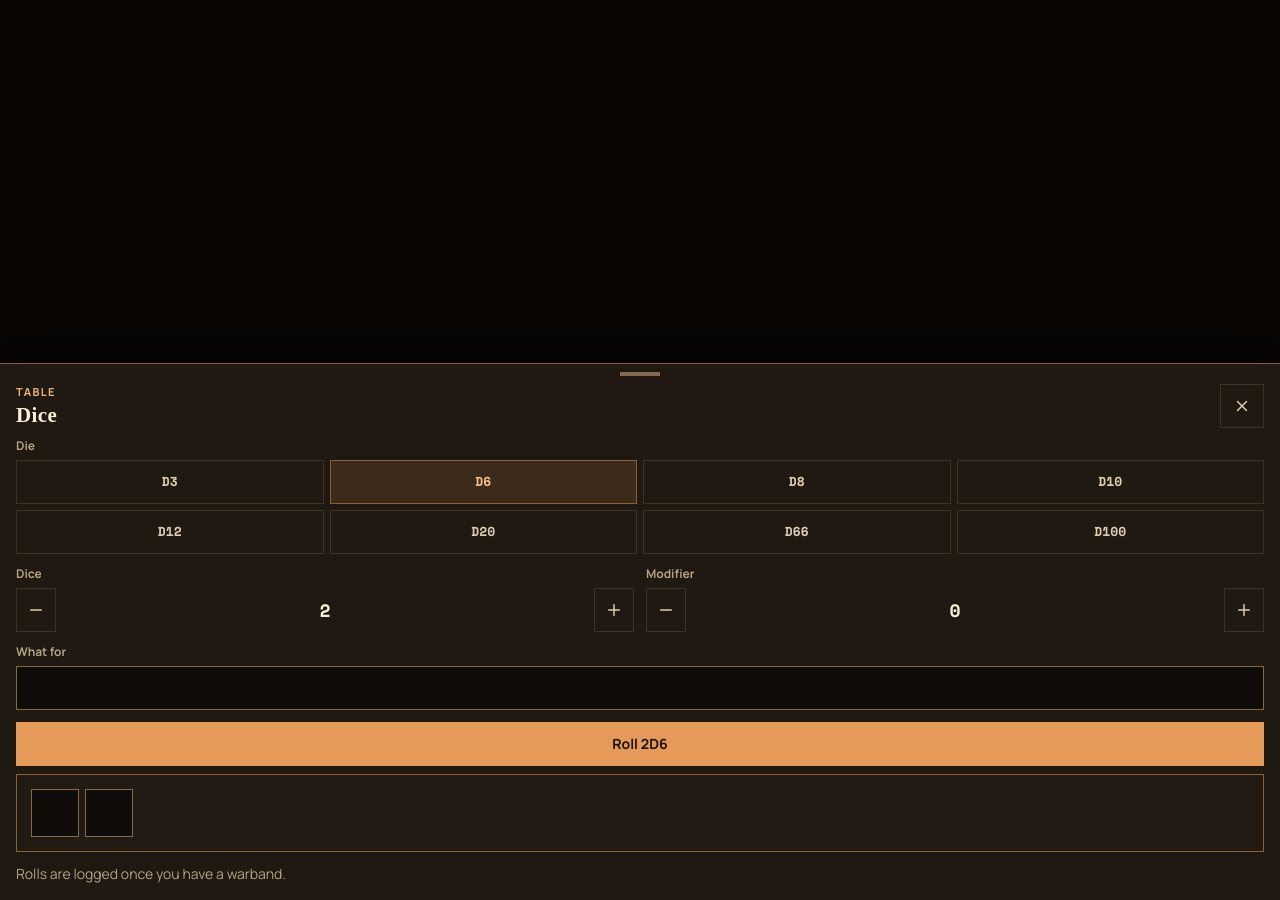
Test: DicePanel › takes the table's roll typed into a box per die, and shows its total
In the field named "First D6 rolled": (55, 813) top-left (31, 789), bottom-right (79, 837), type "4"
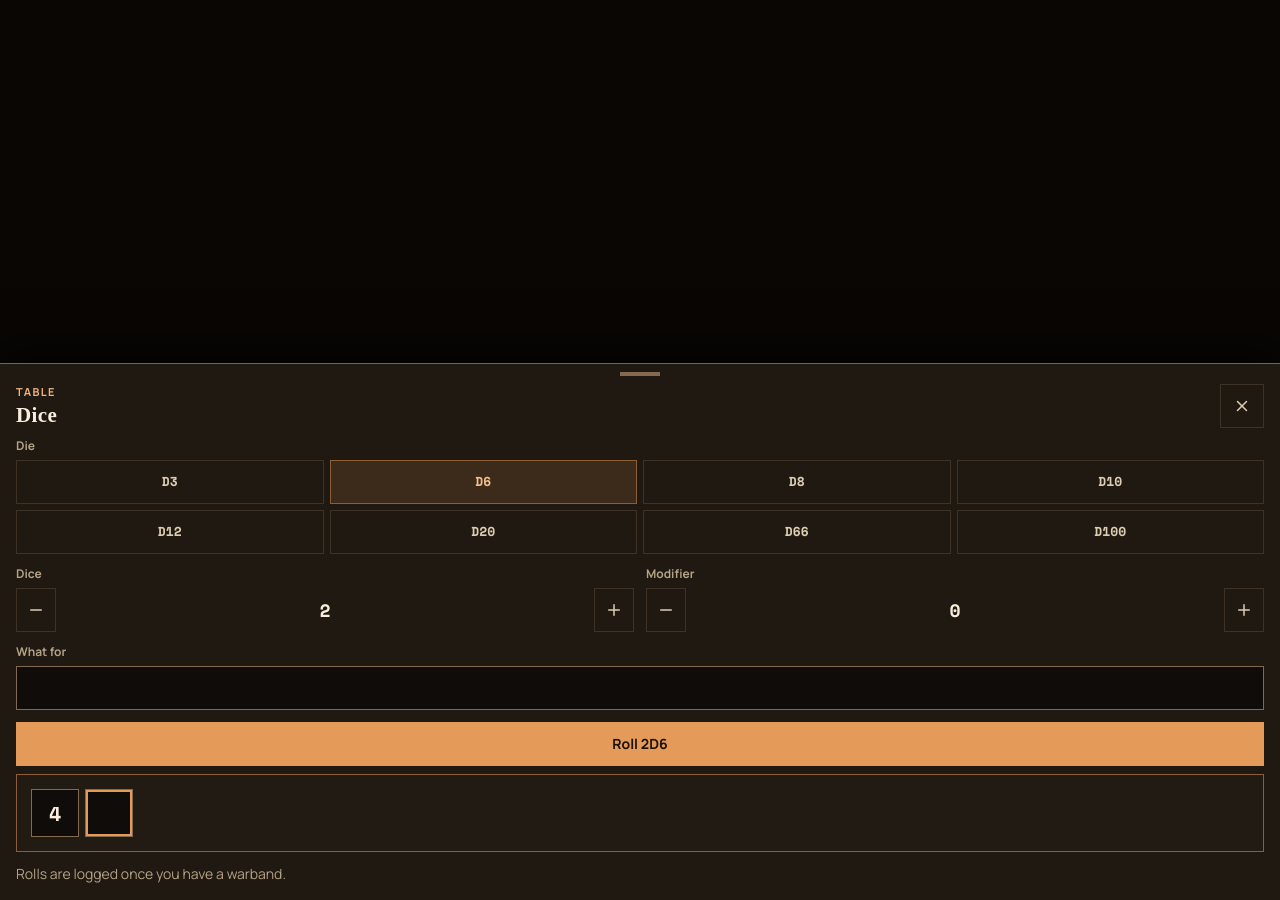
In the field named "Second D6 rolled": (109, 813) top-left (85, 789), bottom-right (133, 837), type "5"
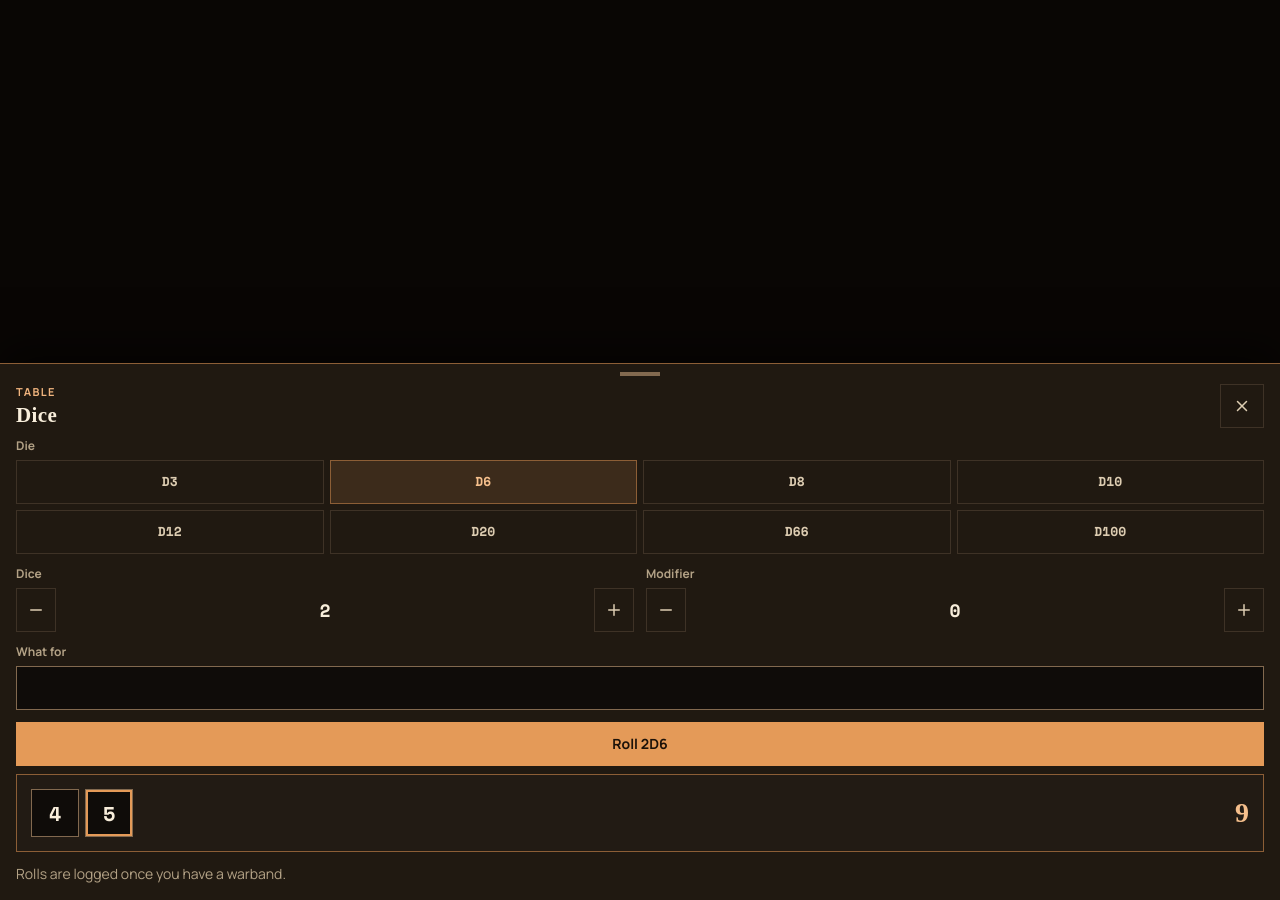
Result: the text "9" is shown at top-left (1235, 792), bottom-right (1249, 834)
